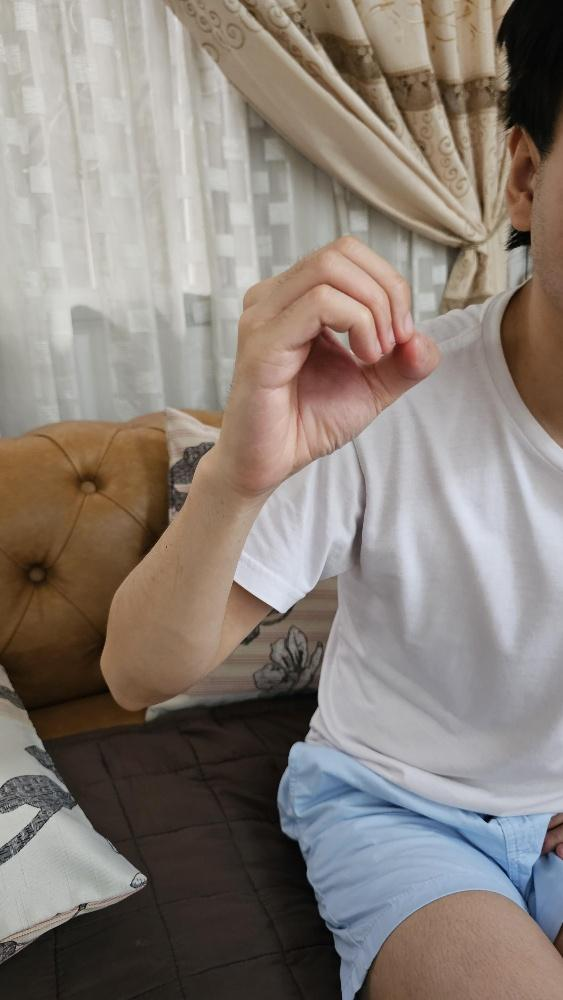o: (214, 231, 441, 494)
